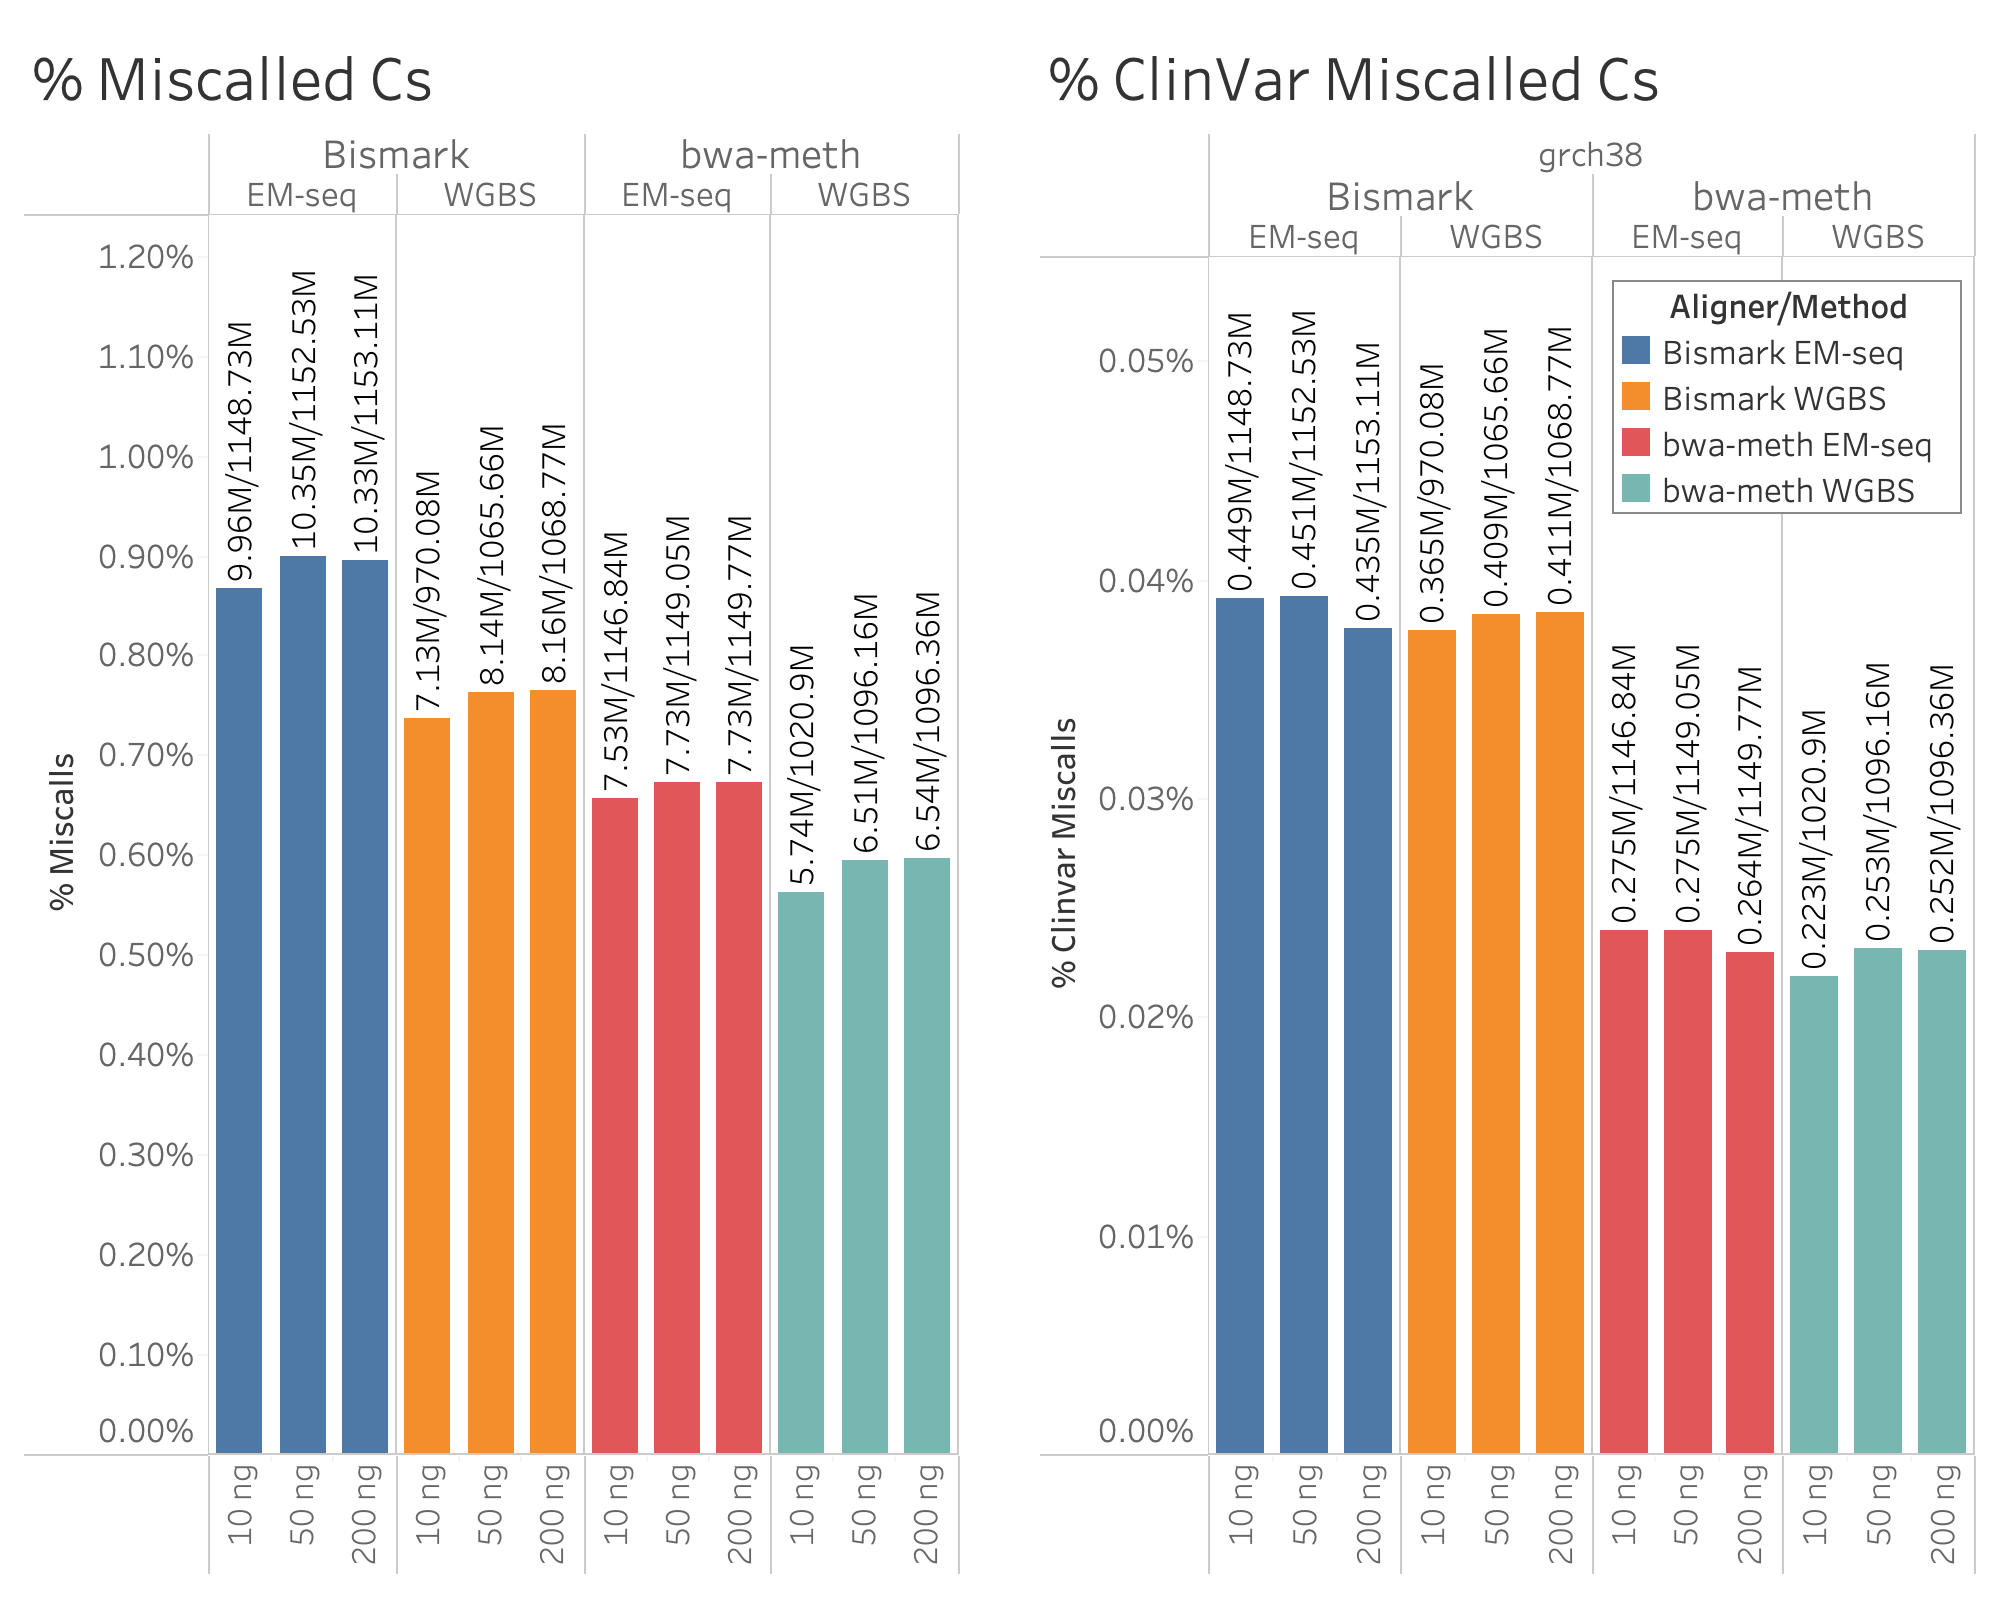

The dashboard page shown, as its layout file describes it:
{"tool":"tableau","page":{"name":"Miscalls Overview (3)","canvas":[1366,768],"ordinal":6},"visuals":[{"type":"worksheet","title":"%Miscalled Cs For Talk","mark":"Automatic","rows":["Calculation_2383319000136155137"],"cols":["Method Printable (copy)_2383319000139251717","Calculation_2383319000139034628","mass"],"box":[8,8,620,752]},{"type":"worksheet","title":"%Clinvar Miscalled Cs For Talk","mark":"Automatic","rows":["%Clinvar Miscalls (copy)_2383319000177631241"],"cols":["Method Printable (copy)_2383319000139251717","Calculation_2383319000139034628","mass"],"box":[628,8,646,752]},{"type":"legend","title":"%Clinvar Miscalled Cs For Talk","param":"[federated.07xhopt01rvugi1b07xxs0ldhv5r].[none:mass:nk]","box":[1274,8,84,100]}]}

Visuals, with their boxes on the page's 1366x768 design canvas (x1, y1, x2, y2). These are canvas units, not pixel positions in the 2000x1600 screenshot, which may show the page scaled, cropped or inside an application window:
"%Miscalled Cs For Talk" worksheet: region(8, 8, 628, 760)
"%Clinvar Miscalled Cs For Talk" worksheet: region(628, 8, 1274, 760)
"%Clinvar Miscalled Cs For Talk" legend: region(1274, 8, 1358, 108)
